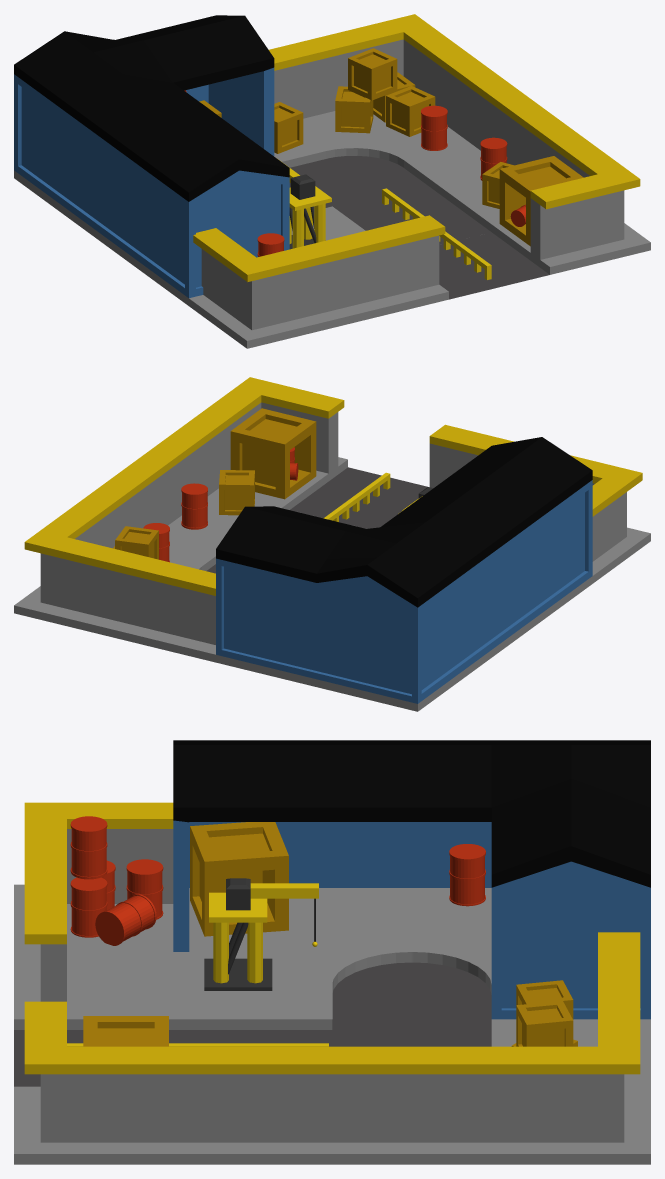
Rendered from Warehouse.fbx.
3 views of the same model, one above another, from view 1: azimuth 30°, elevation 25°; view 2: azimuth 150°, elevation 25°; view 3: azimuth 270°, elevation 25° (orthographic). The views are drawn at different scales.
Visible parts, largest first — view 1: Cube, Cube.002_Cube.003, Cube.002, Cube.003; view 2: Cube, Cube.002; view 3: Cube, Cube.002_Cube.003, Cube.003, Cube.002.
Boxes of the visible parts, x1,y1,x2,y2 form: Cube: (14,14,650,348); Cube.002_Cube.003: (278,159,331,249); Cube.002: (382,188,491,279); Cube.003: (326,139,403,167); Cube: (14,377,650,711); Cube.002: (323,472,390,521); Cube: (14,740,650,1164); Cube.002_Cube.003: (204,878,318,990); Cube.003: (332,952,491,994); Cube.002: (67,1043,328,1046).
Bounding box in the file's own units: 800 × 255 × 800.
